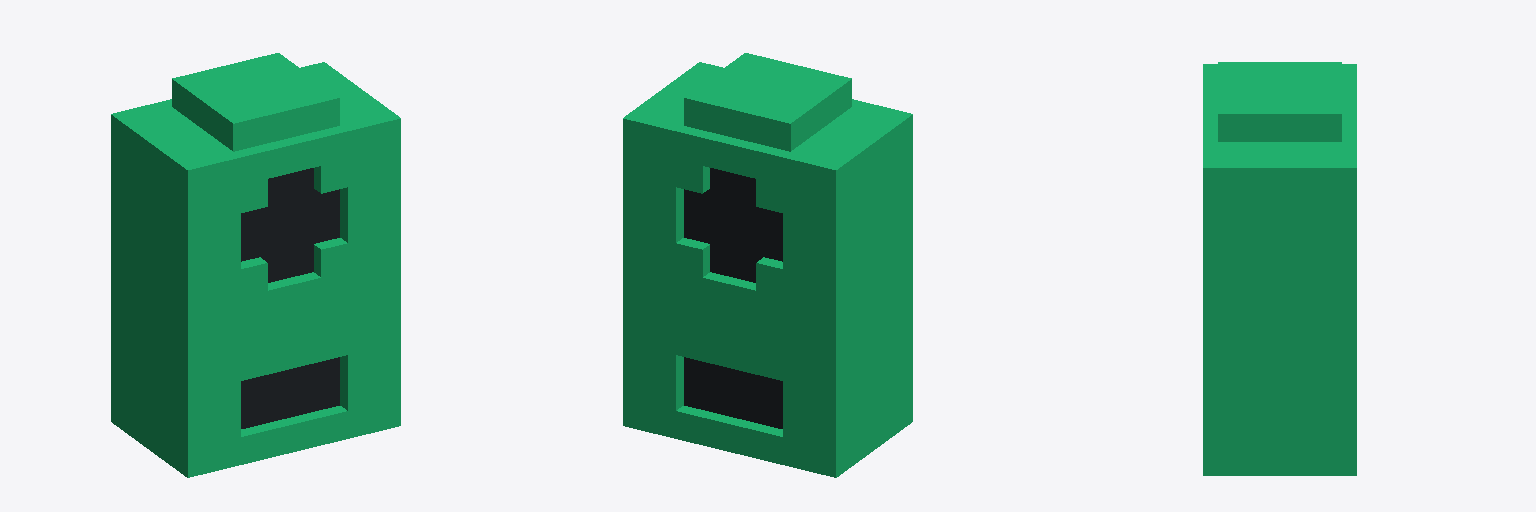
The model's file is BoosterIcon.obj.
3 renders of one model, left to right at view 1: azimuth 30°, elevation 25°; view 2: azimuth 150°, elevation 25°; view 3: azimuth 270°, elevation 25°, orthographic.
Size of the model in its own units: 8 by 12 by 5.